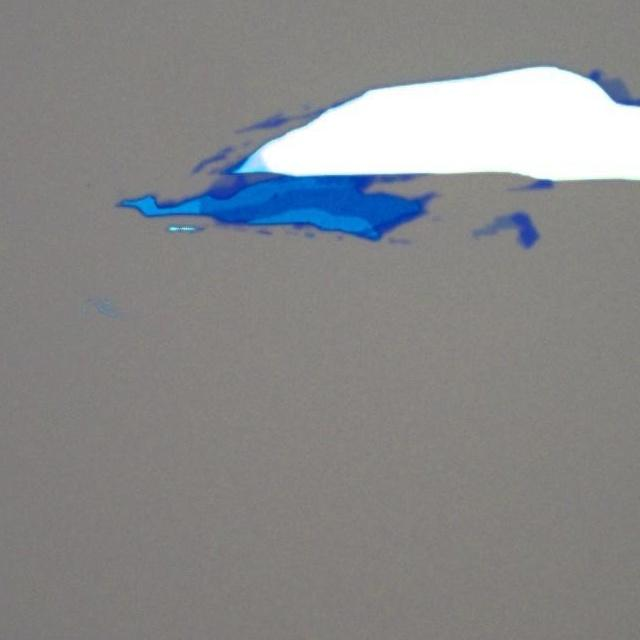monolayer-eWW4: (598, 77, 640, 99), (474, 214, 514, 236), (243, 174, 279, 184), (210, 175, 237, 188)
